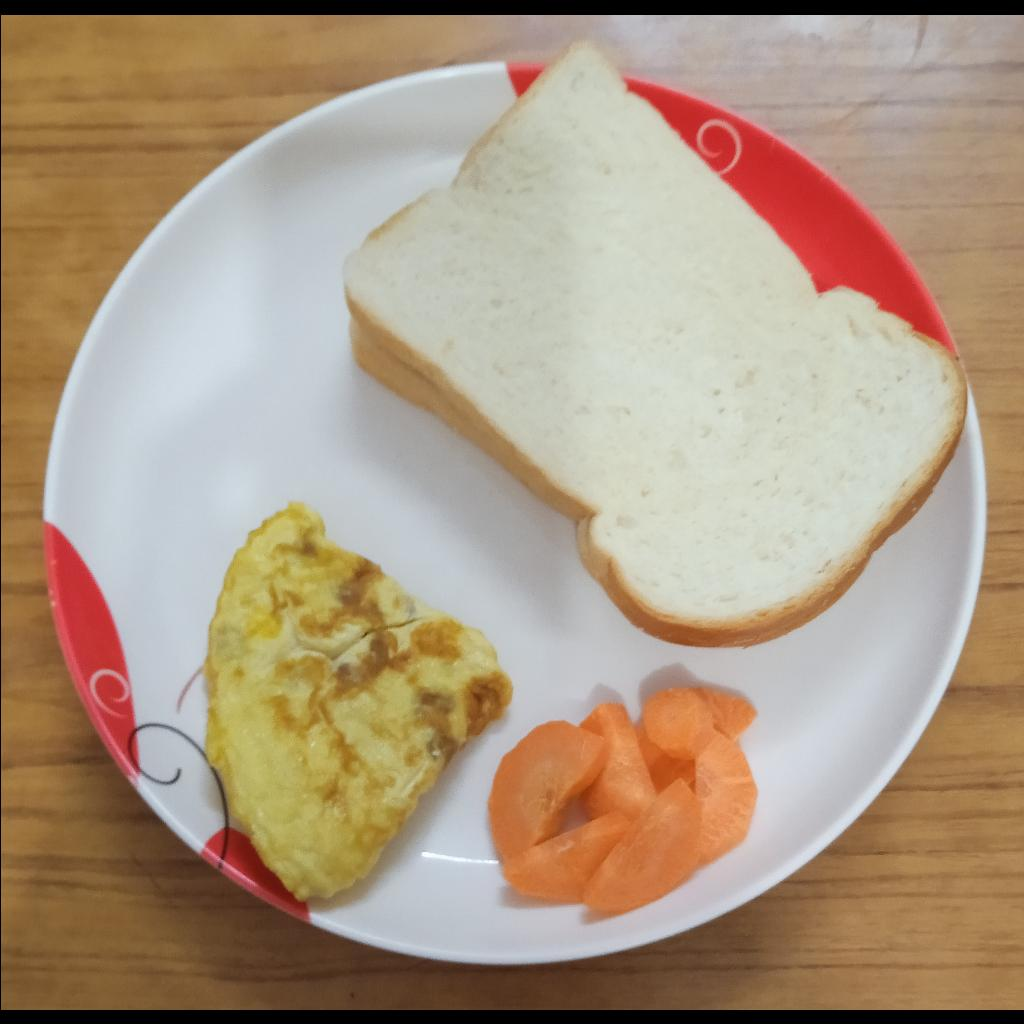bread: (343, 39, 967, 648)
carrot: (488, 687, 758, 914)
egg-poached: (203, 502, 512, 903)
